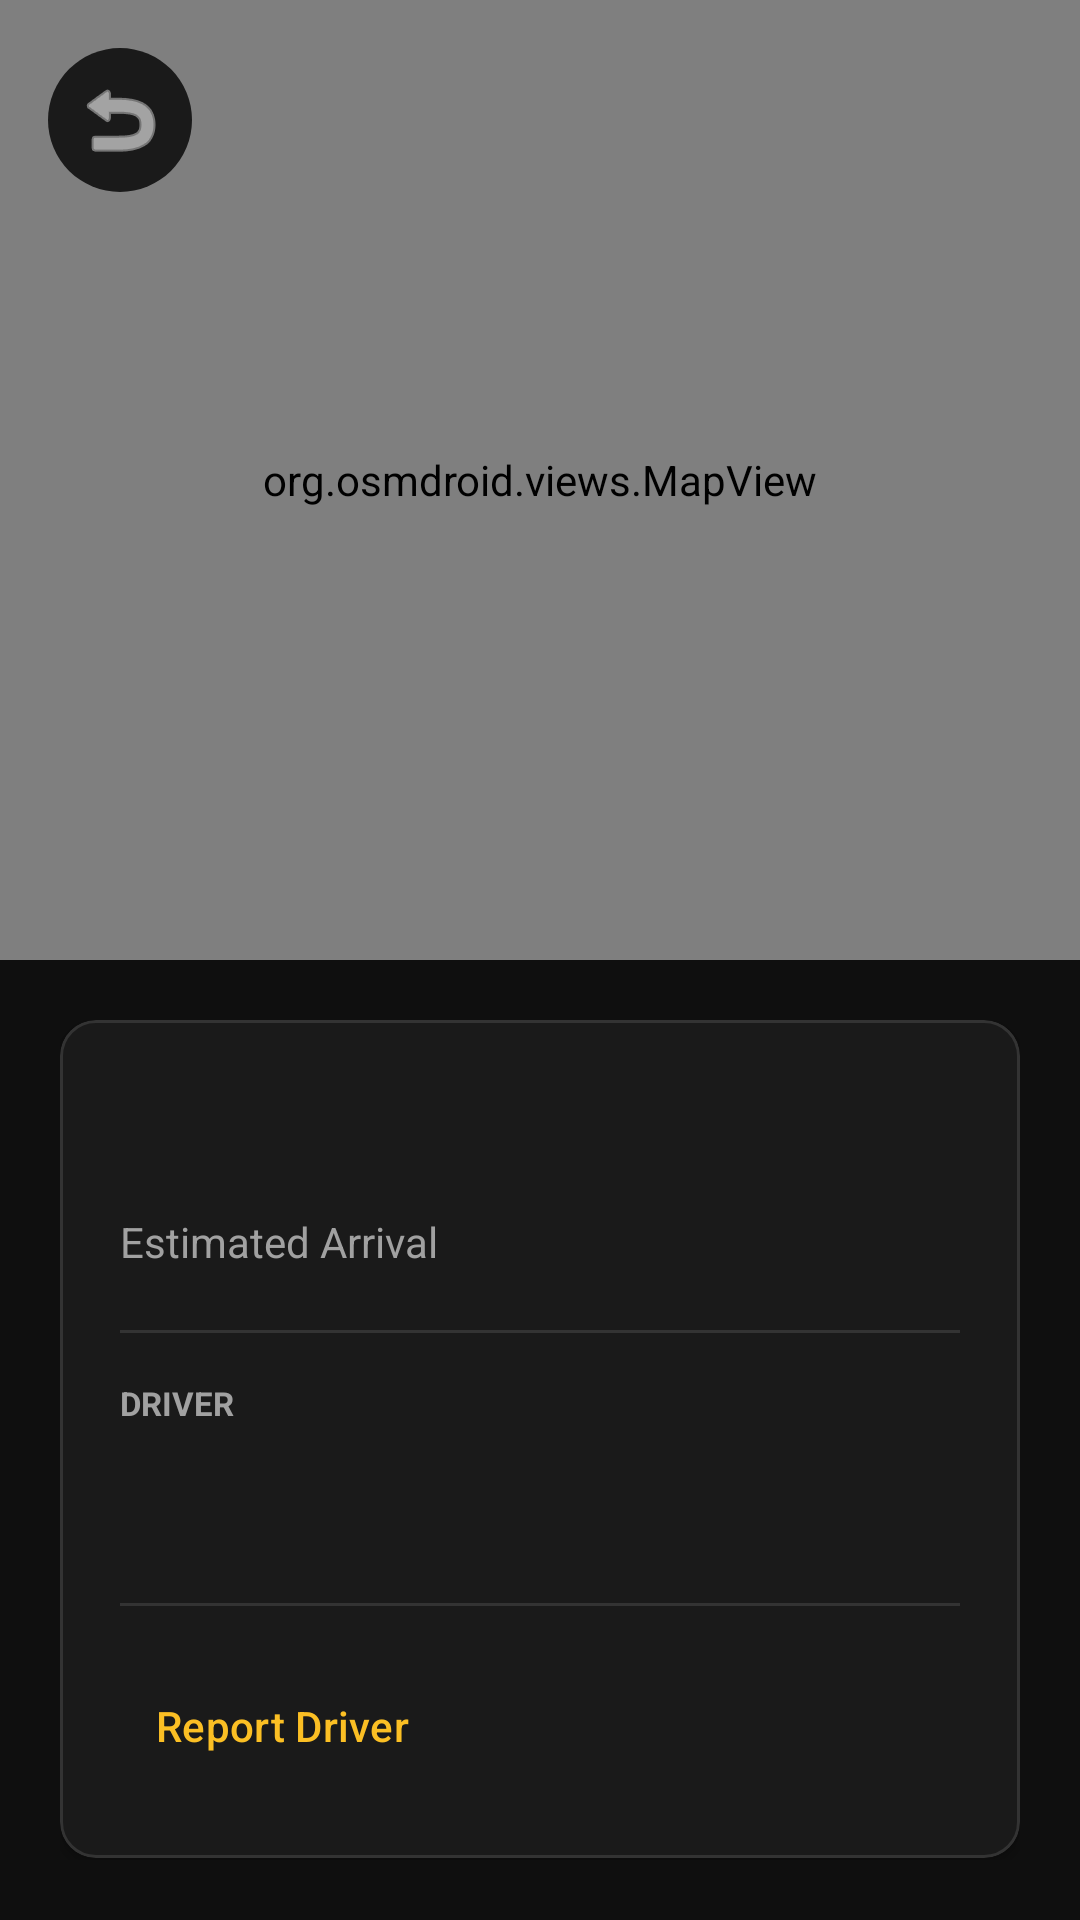

Screen size 1080*1920. Icon name, then its center in pixels as (x,y):
revert: (120,120)
